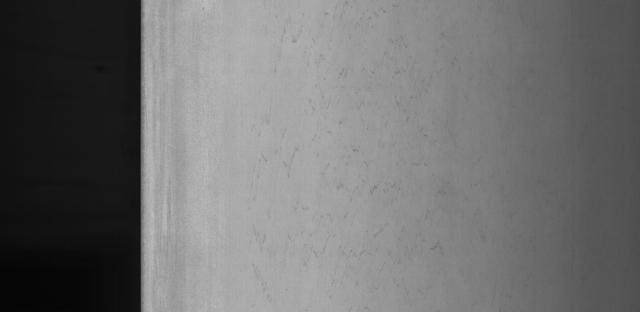silk_spot: (262, 10, 452, 272)
